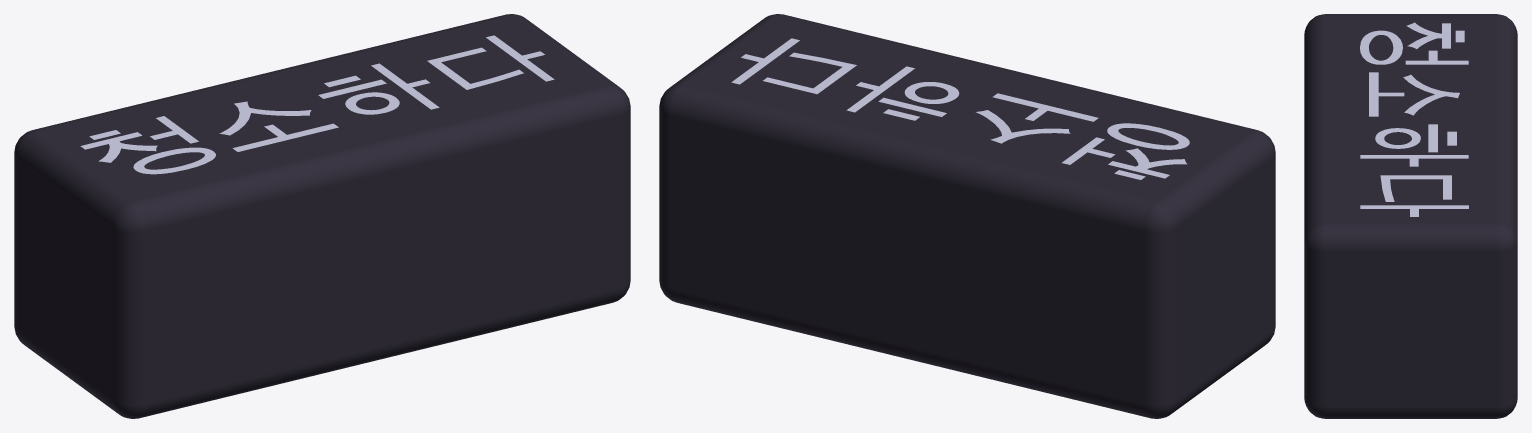
File: clean.glb
3 renders of one model, left to right at view 1: azimuth 30°, elevation 25°; view 2: azimuth 150°, elevation 25°; view 3: azimuth 270°, elevation 25°, orthographic. The views are drawn at different scales.
Visible parts, largest first — view 1: Cut, Extrude; view 2: Cut, Extrude; view 3: Cut, Extrude.
Part boxes in pixels (x1,y1,x2,y2): Cut: [14, 14, 630, 418]; Extrude: [80, 35, 554, 174]; Cut: [659, 14, 1275, 418]; Extrude: [731, 38, 1189, 179]; Cut: [1304, 14, 1517, 418]; Extrude: [1360, 22, 1468, 216].
Size of the model in its own units: 5 by 2 by 2.
